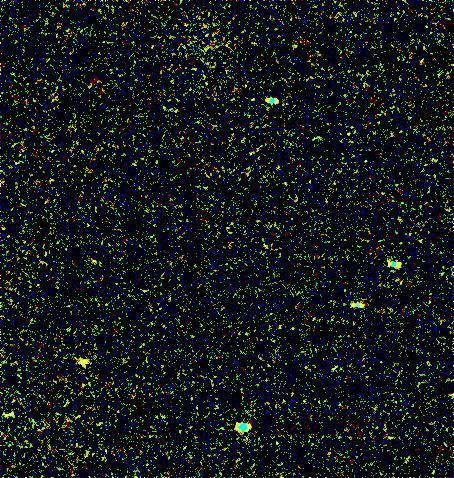star: (69, 354, 99, 384)
